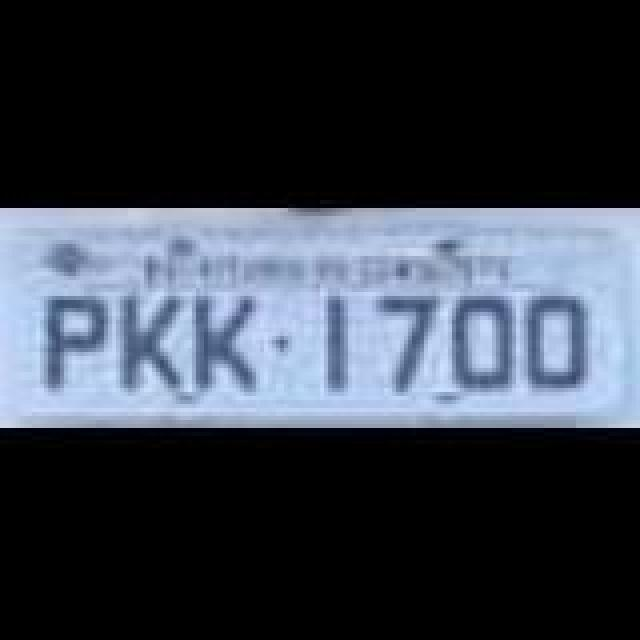1: (318, 290, 354, 398)
7: (376, 294, 440, 394)
K: (190, 290, 258, 398), (120, 290, 184, 398)
O: (518, 288, 586, 392), (448, 294, 512, 394)
P: (40, 288, 104, 400)
